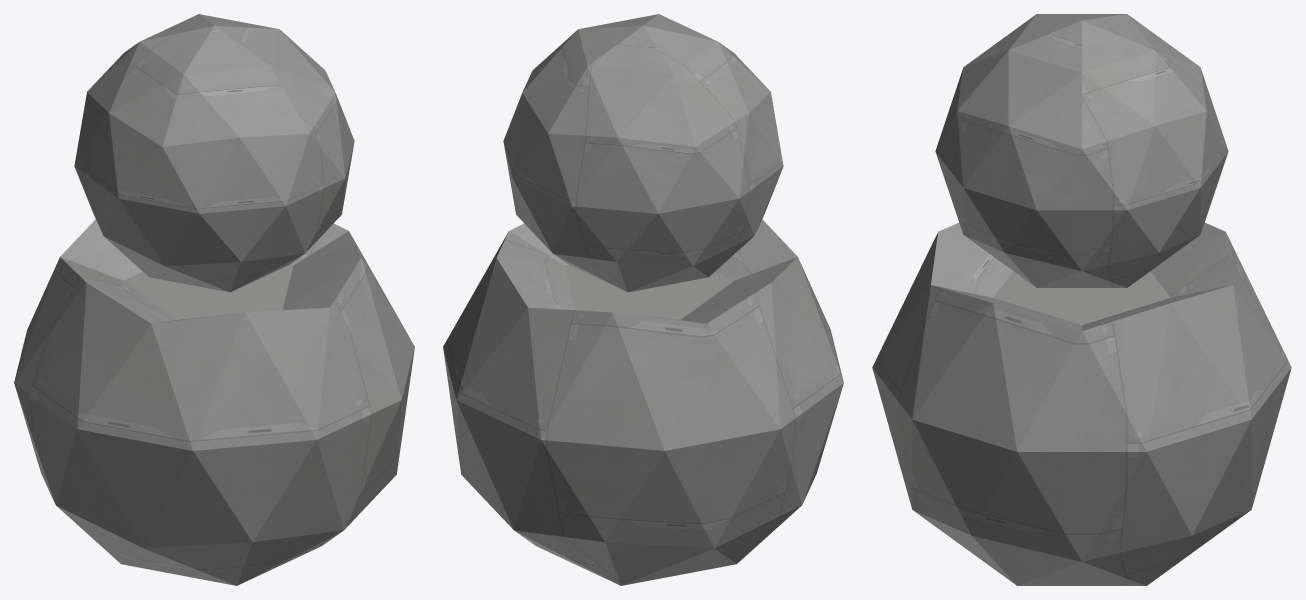
The model's file is character.obj.
3 renders of one model, left to right at view 1: azimuth 30°, elevation 25°; view 2: azimuth 150°, elevation 25°; view 3: azimuth 270°, elevation 25°, orthographic. The views are drawn at different scales.
Parts seen in each view (by area): view 1: Icosphere; view 2: Icosphere; view 3: Icosphere.
Part boxes in pixels (x1=…): Icosphere: x1=14, y1=14, x2=414, y2=585; Icosphere: x1=443, y1=14, x2=843, y2=585; Icosphere: x1=872, y1=14, x2=1291, y2=585.
Size of the model in its own units: 1.17 by 1.8 by 1.23.
Materials: 1 (1 with a texture image).
